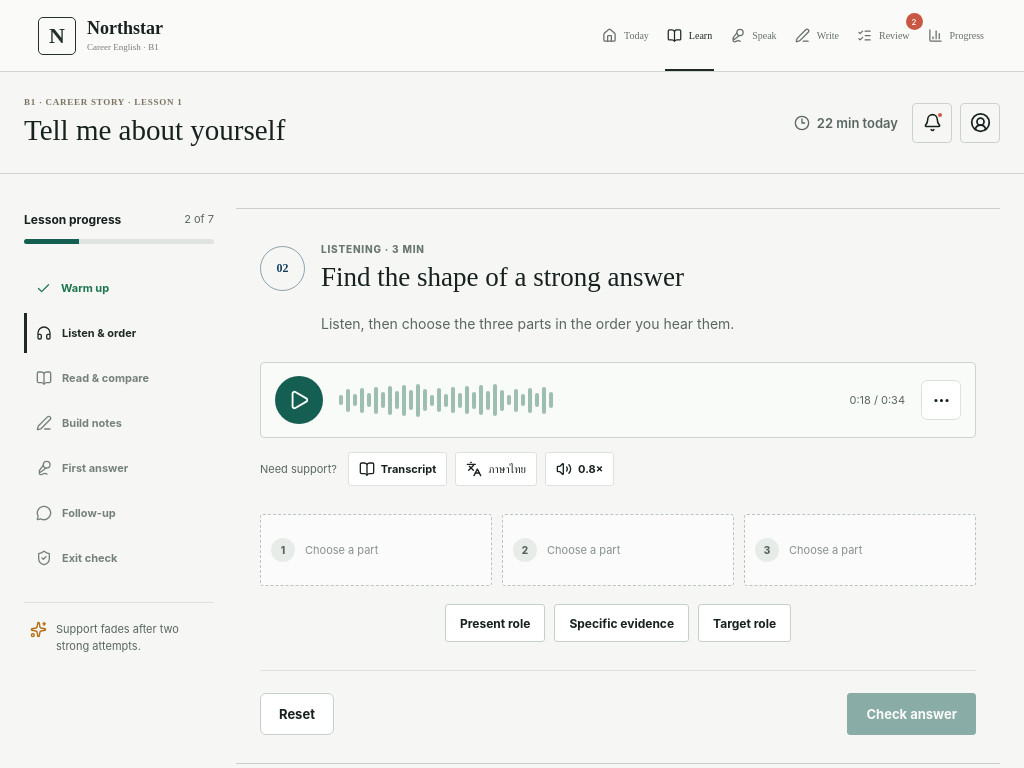
it: learning UI prototype › supports the listening activity flow
The width and height of the screenshot is (1024, 768).
Click the button "Transcript". click: x=398, y=469
box: [348, 452, 447, 486]
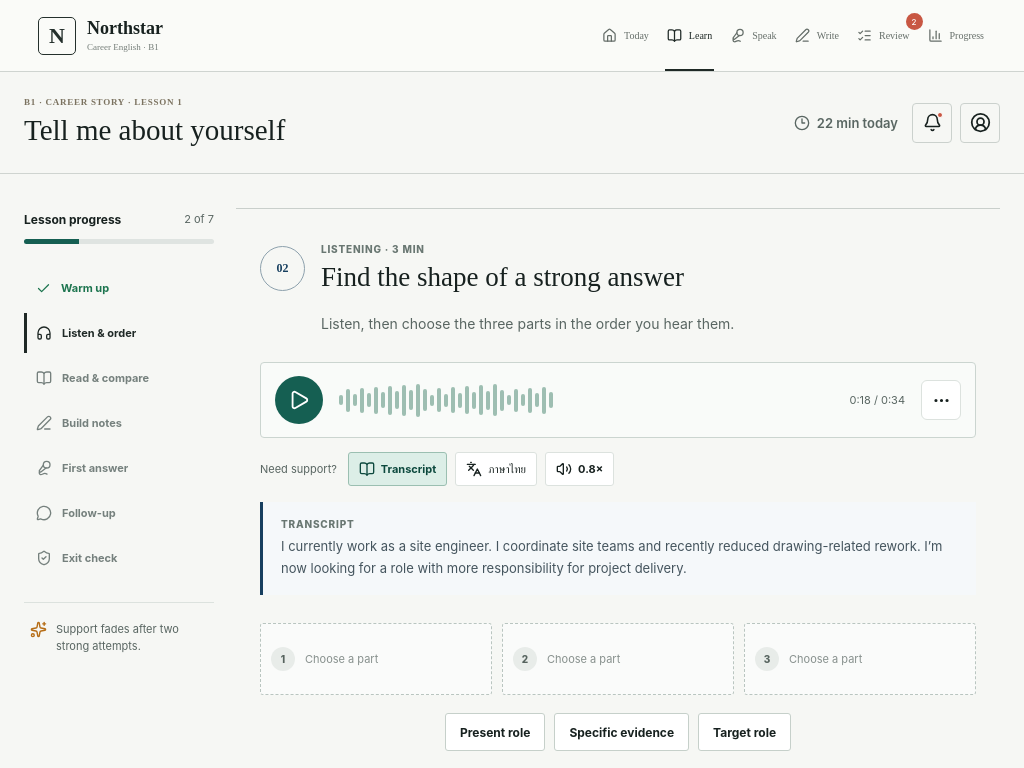
Result: the text "I currently work as a site engineer." is shown at [281, 538, 942, 576]
Click the button "Present role". click: x=495, y=732
box: [445, 713, 545, 751]
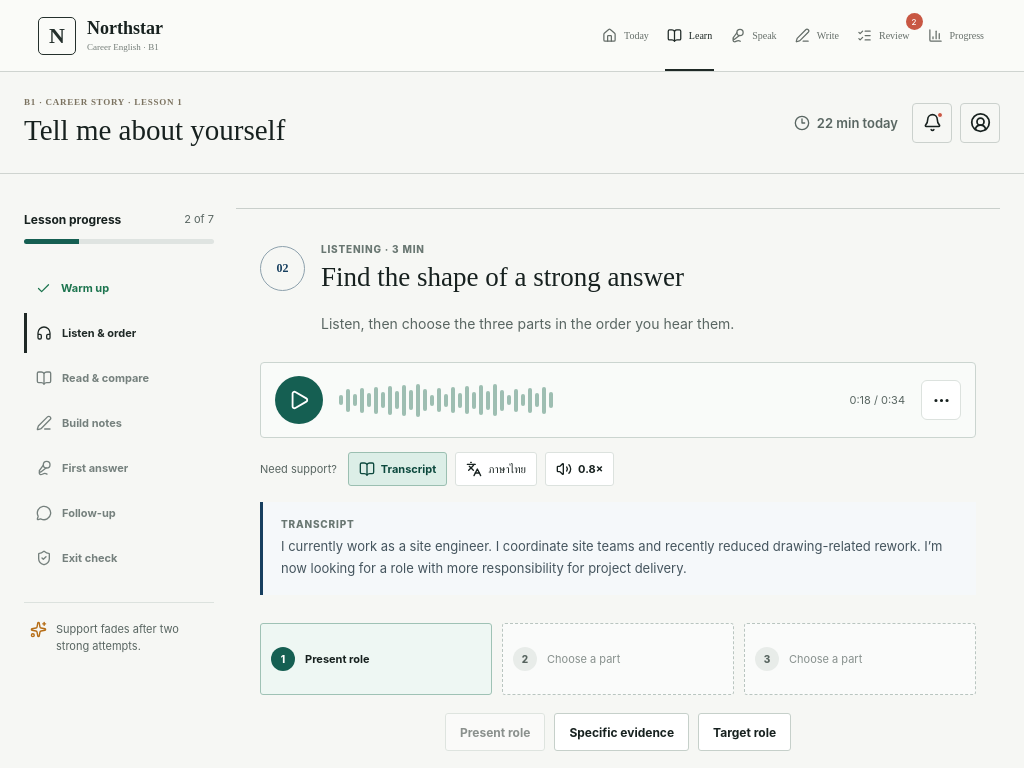
Click the button "Specific evidence". click: x=622, y=732
box: [554, 713, 689, 751]
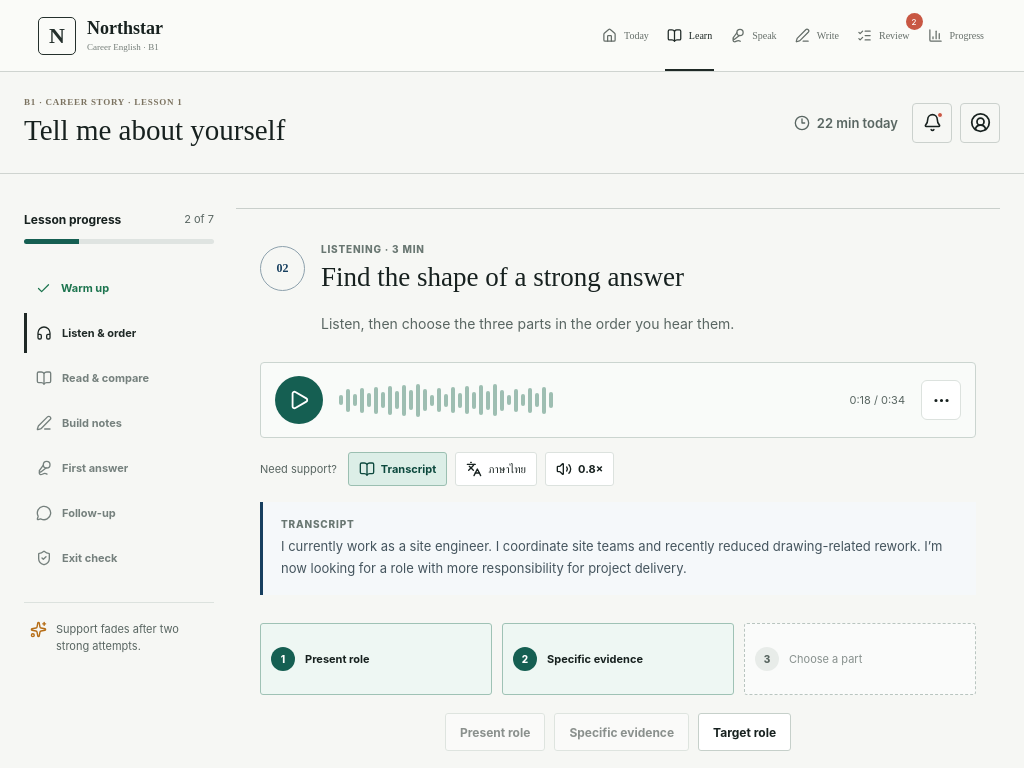
Click the button "Target role". click: x=745, y=732
box: [698, 713, 791, 751]
(page scrolled)
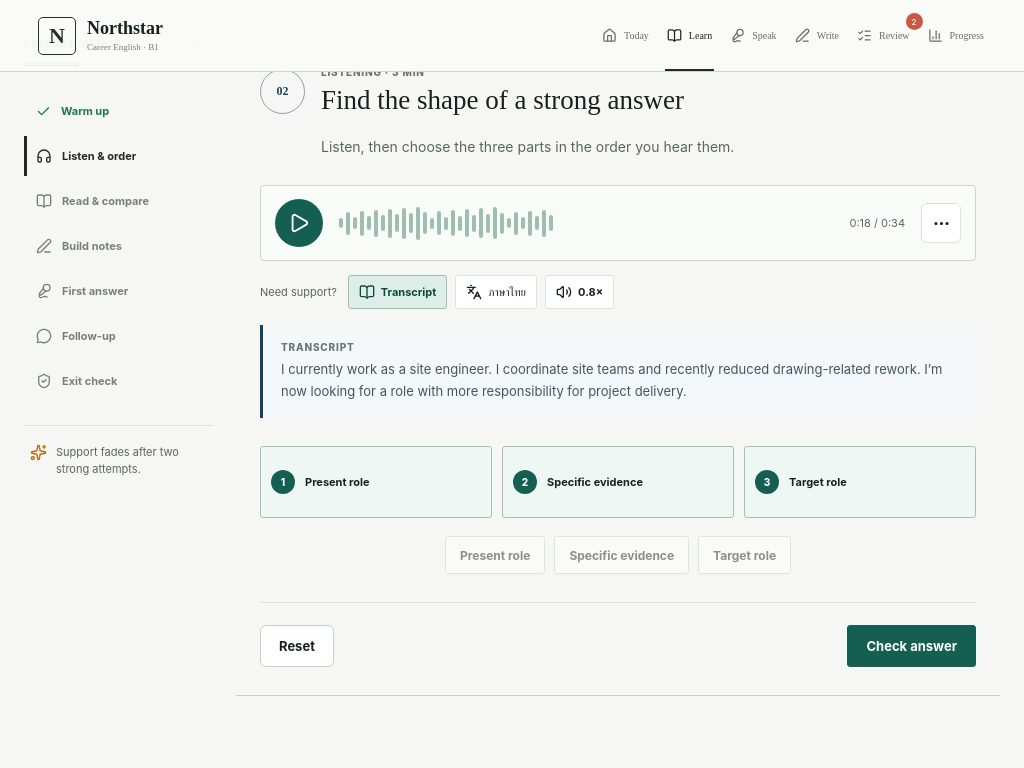
Click the button "Check answer". click: x=912, y=646
box: [847, 625, 976, 667]
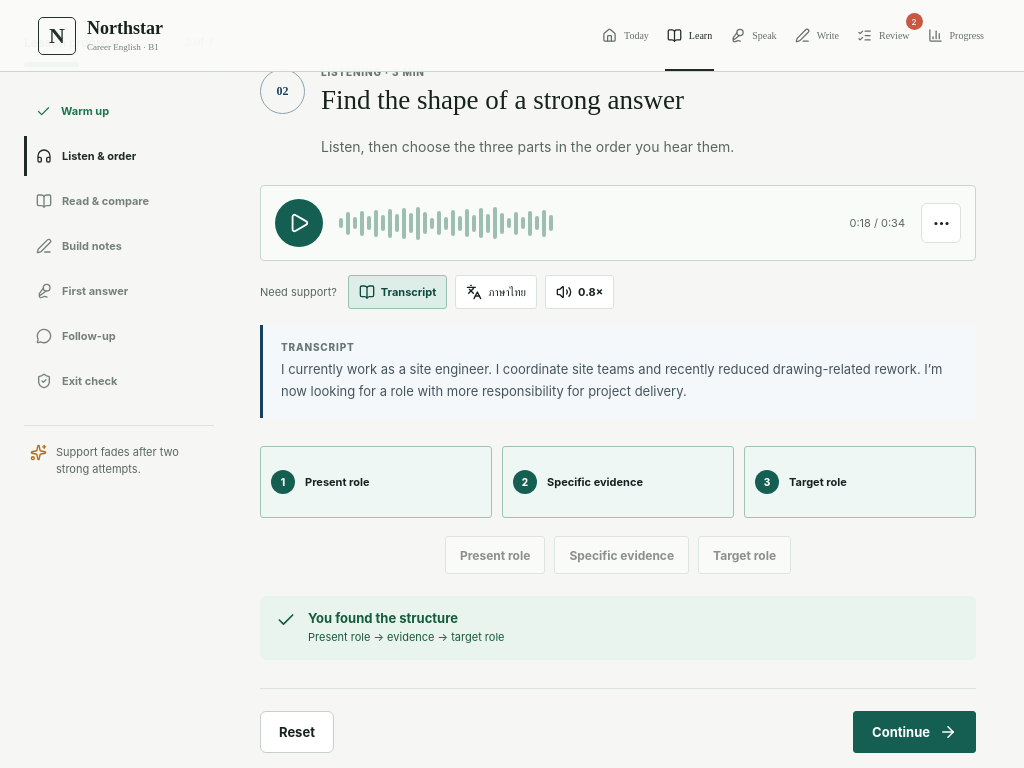
Result: the text "You found the structure" is shown at [308, 610, 458, 626]
